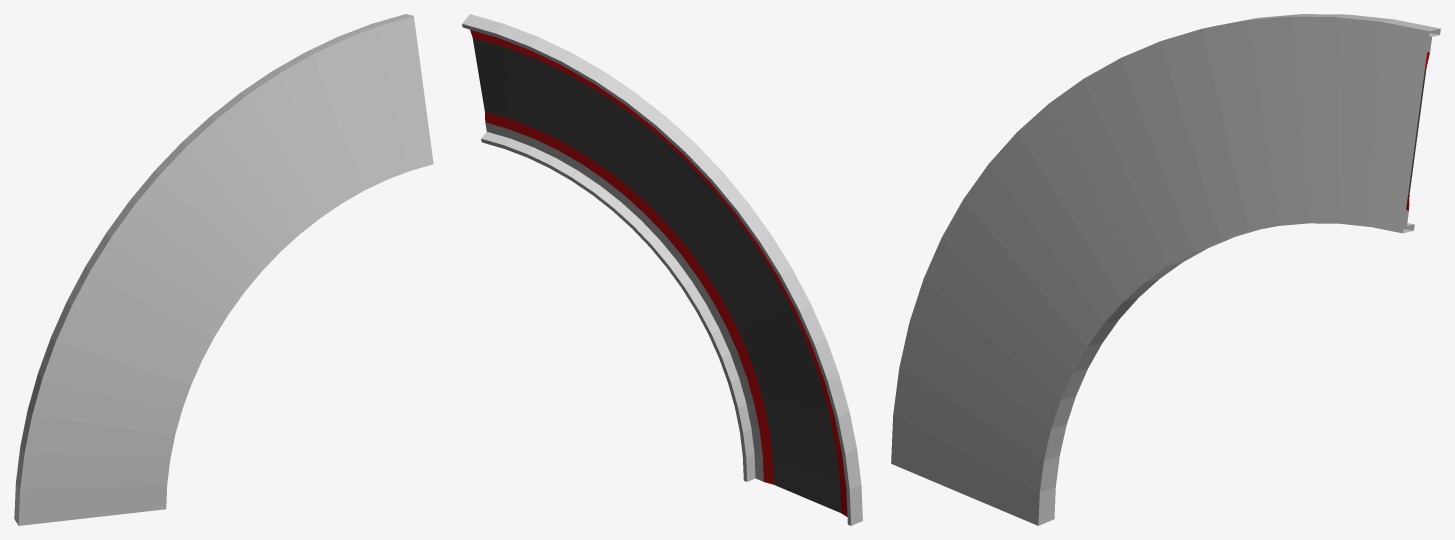
The model's file is Curve_Pitch1.fbx.
The picture shows the model from 3 angles, left to right: view 1: azimuth 30°, elevation 25°; view 2: azimuth 150°, elevation 25°; view 3: azimuth 330°, elevation 25°; orthographic projection. The views are drawn at different scales.
Parts seen in each view (by area): view 1: Curve_Pitch1; view 2: Curve_Pitch1; view 3: Curve_Pitch1.
Part boxes in pixels (x1,y1,x2,y2): Curve_Pitch1: (14,14,433,525); Curve_Pitch1: (462,14,862,525); Curve_Pitch1: (891,14,1440,525).
Size of the model in its own units: 3823 by 3823 by 467.
